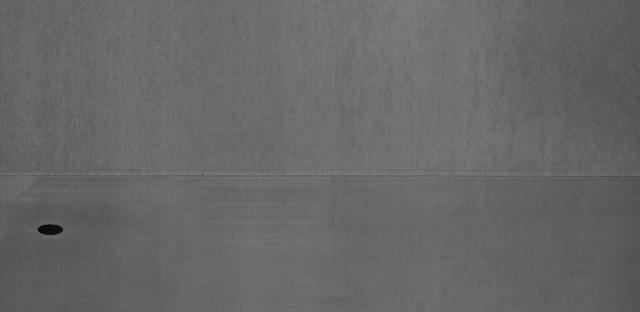punching_hole: (31, 220, 68, 241)
welding_line: (1, 166, 639, 187)
